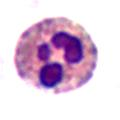eosi: (13, 13, 101, 96)
